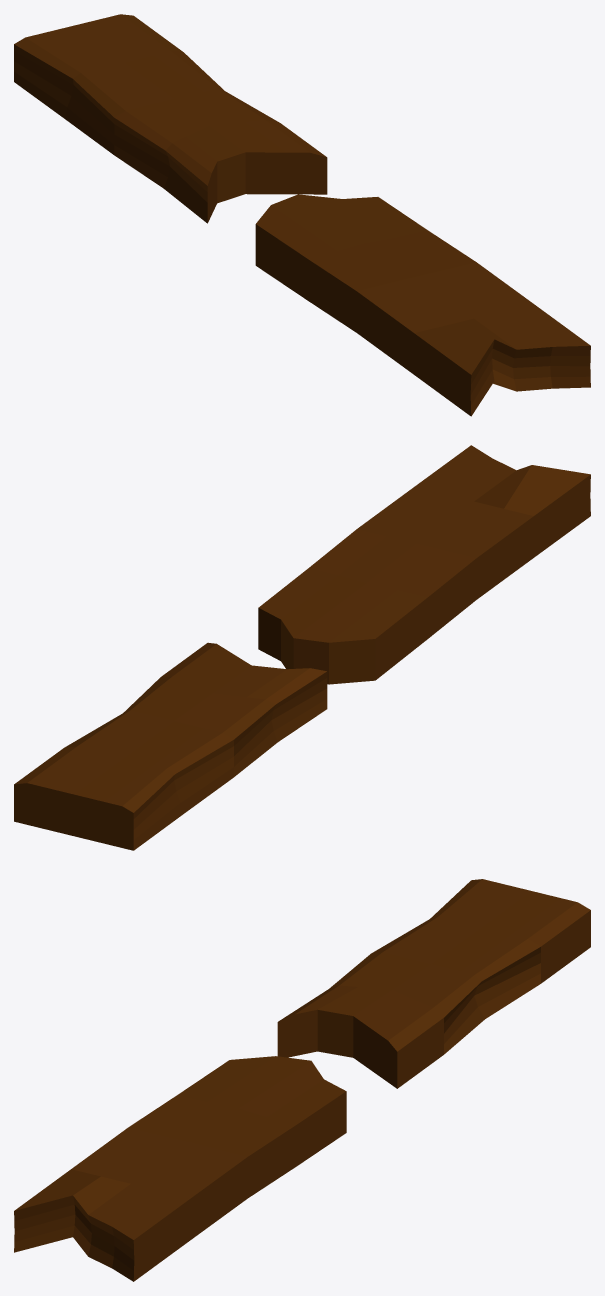
Rendered from Bridge Wood Damaged.fbx.
The picture shows the model from 3 angles, top to bottom: view 1: azimuth 30°, elevation 25°; view 2: azimuth 150°, elevation 25°; view 3: azimuth 330°, elevation 25°; orthographic projection.
Visible parts, largest first — view 1: Cube.001, Cube.002; view 2: Cube.001, Cube.002; view 3: Cube.001, Cube.002.
Boxes of the visible parts, x1,y1,x2,y2 form: Cube.001: (255,194,590,416); Cube.002: (14,14,327,223); Cube.001: (258,445,590,684); Cube.002: (14,642,327,850); Cube.001: (14,1056,346,1281); Cube.002: (277,879,590,1088).
Bounding box in the file's own units: 60 × 29.24 × 397.
